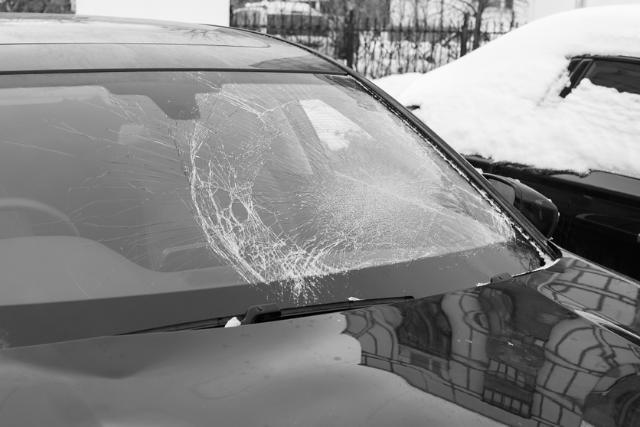Windshield: (142, 74, 532, 282)
